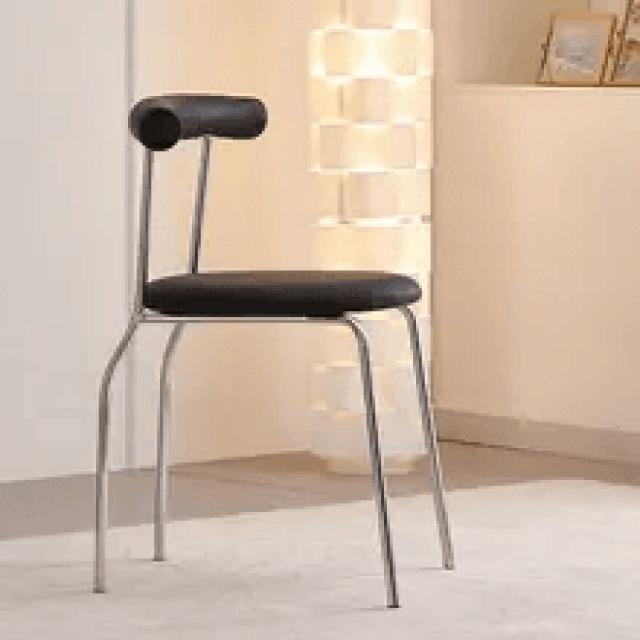chair: (88, 86, 456, 611), (125, 91, 438, 312)
